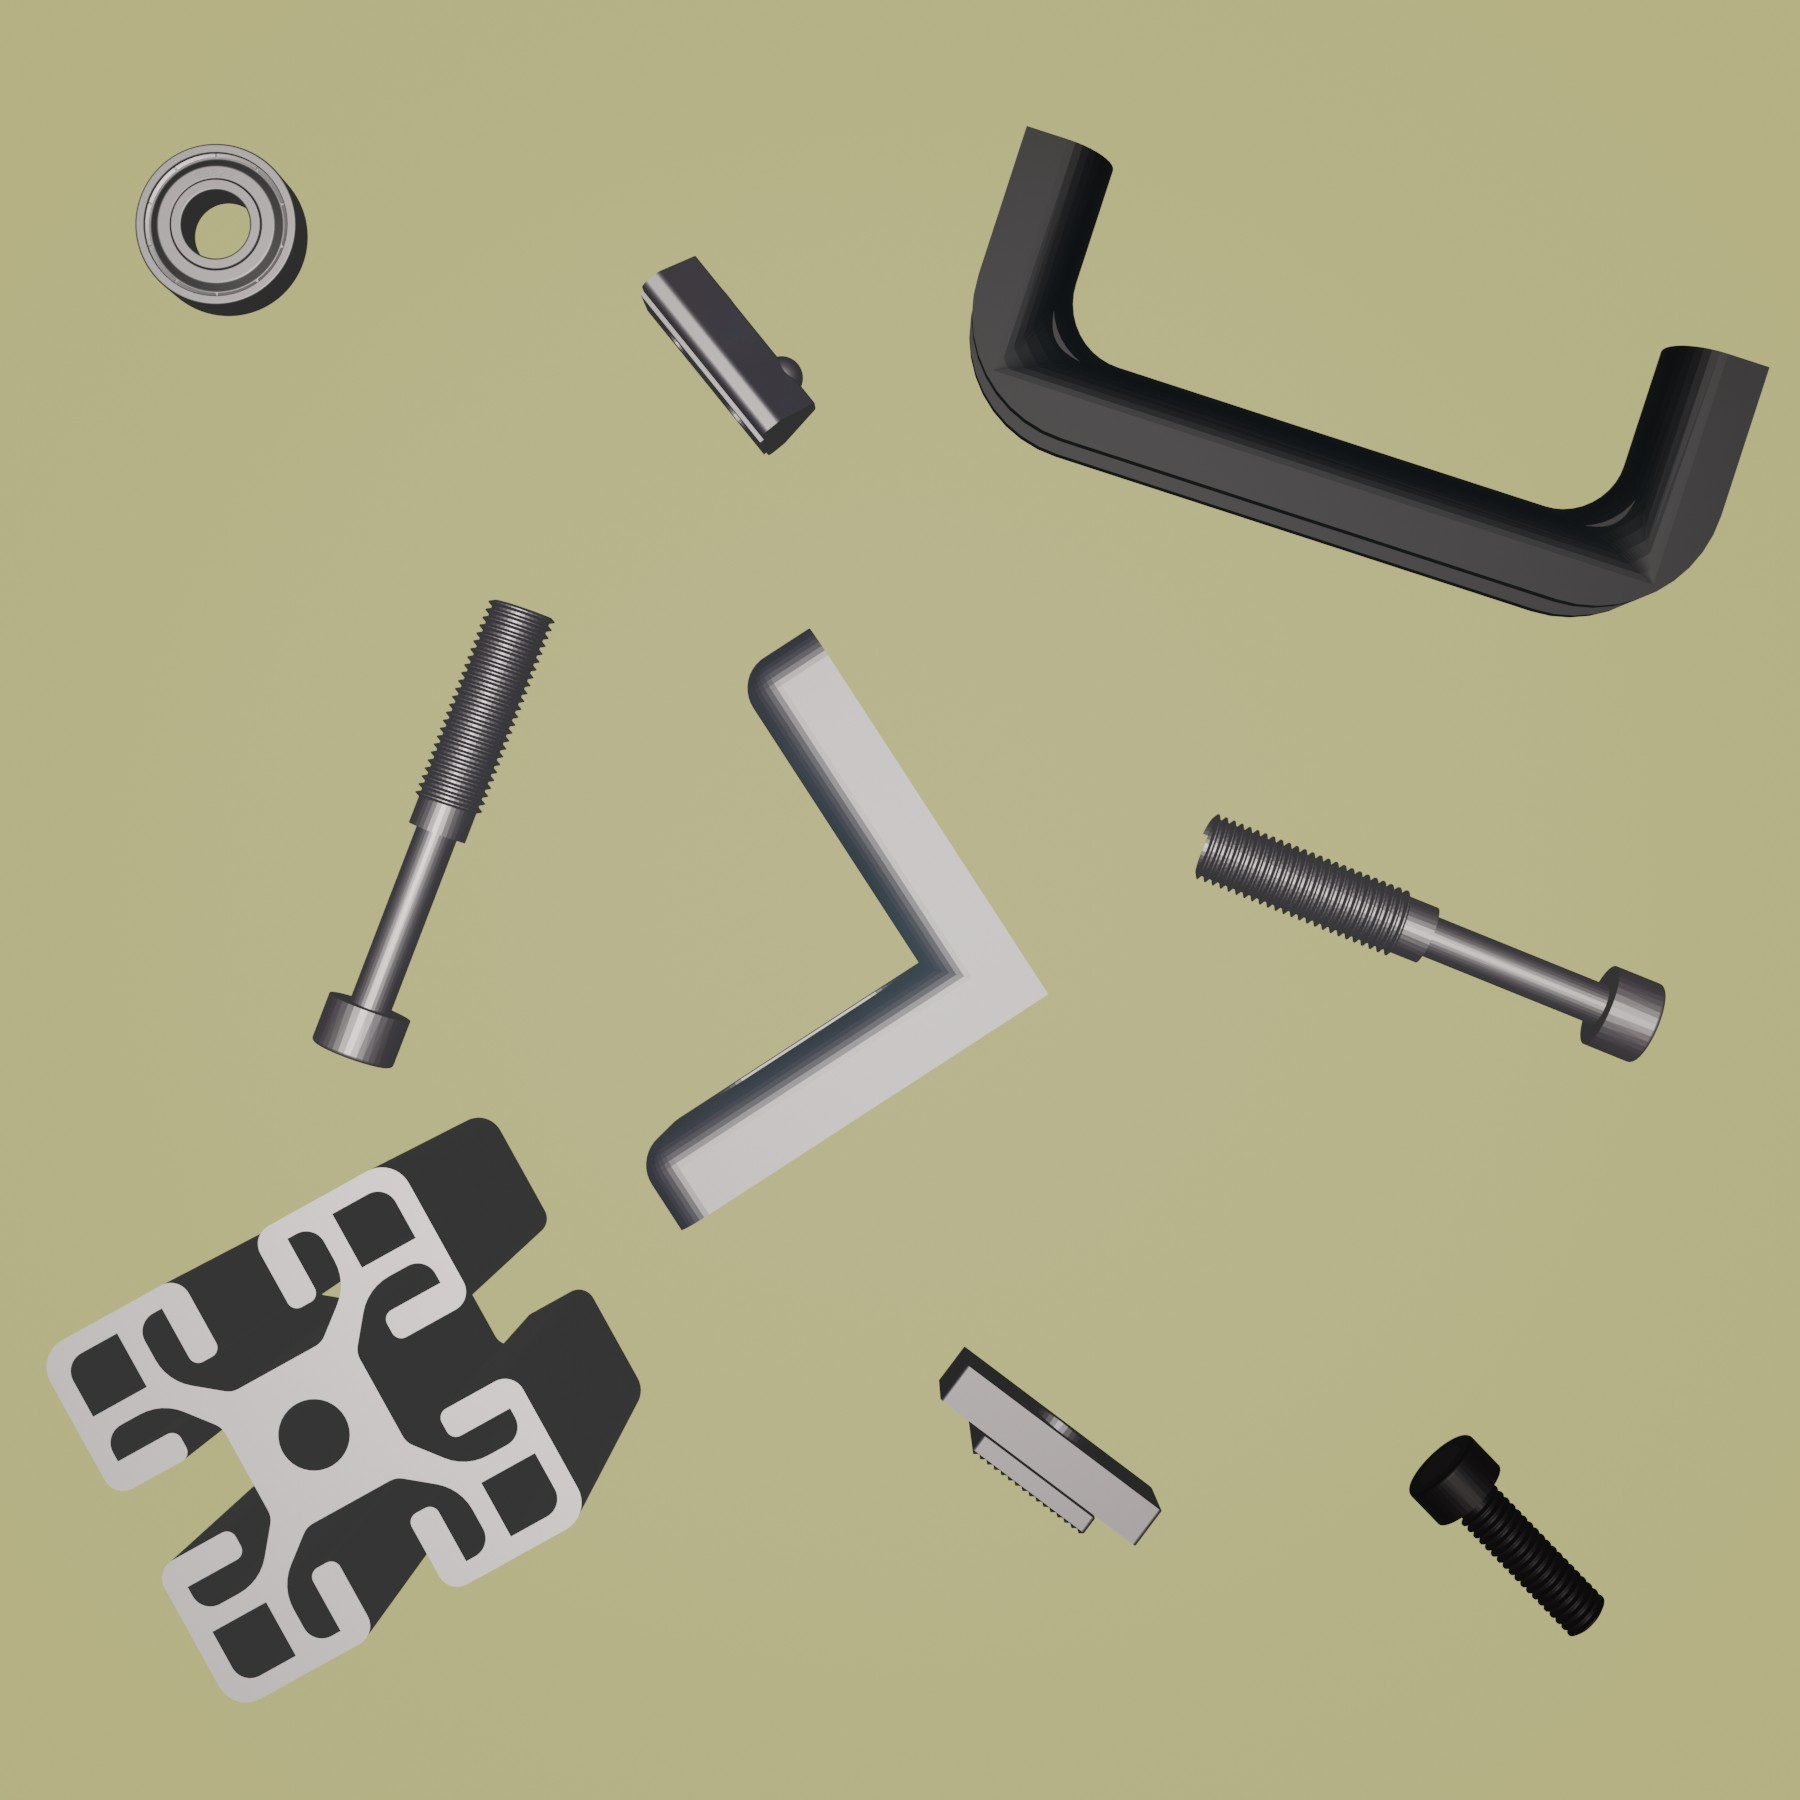Aluminium Extension: (45, 1114, 641, 1708)
Ball Bearing: (132, 138, 308, 320)
Multiwinkel: (645, 625, 1053, 1235)
Pull Handle: (966, 124, 1770, 620)
Shoulder Socket Head Cap Screw: (1190, 813, 1666, 1065), (307, 595, 559, 1071)
Socket Head Cap Screw: (1404, 1431, 1605, 1642)
T Nut Square: (936, 1345, 1165, 1551)
T Spring Nut: (640, 251, 818, 458)
